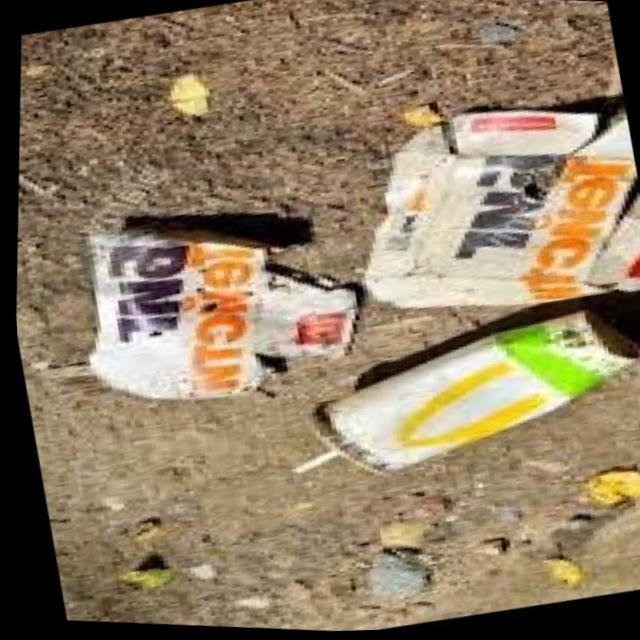food: (26, 144, 407, 462)
leaf: (249, 272, 640, 532)
trash: (319, 41, 640, 394)
